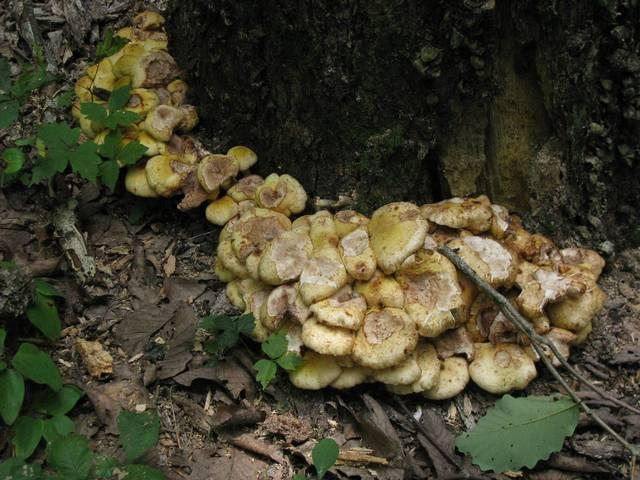edible_mushroom: (71, 9, 607, 399)
